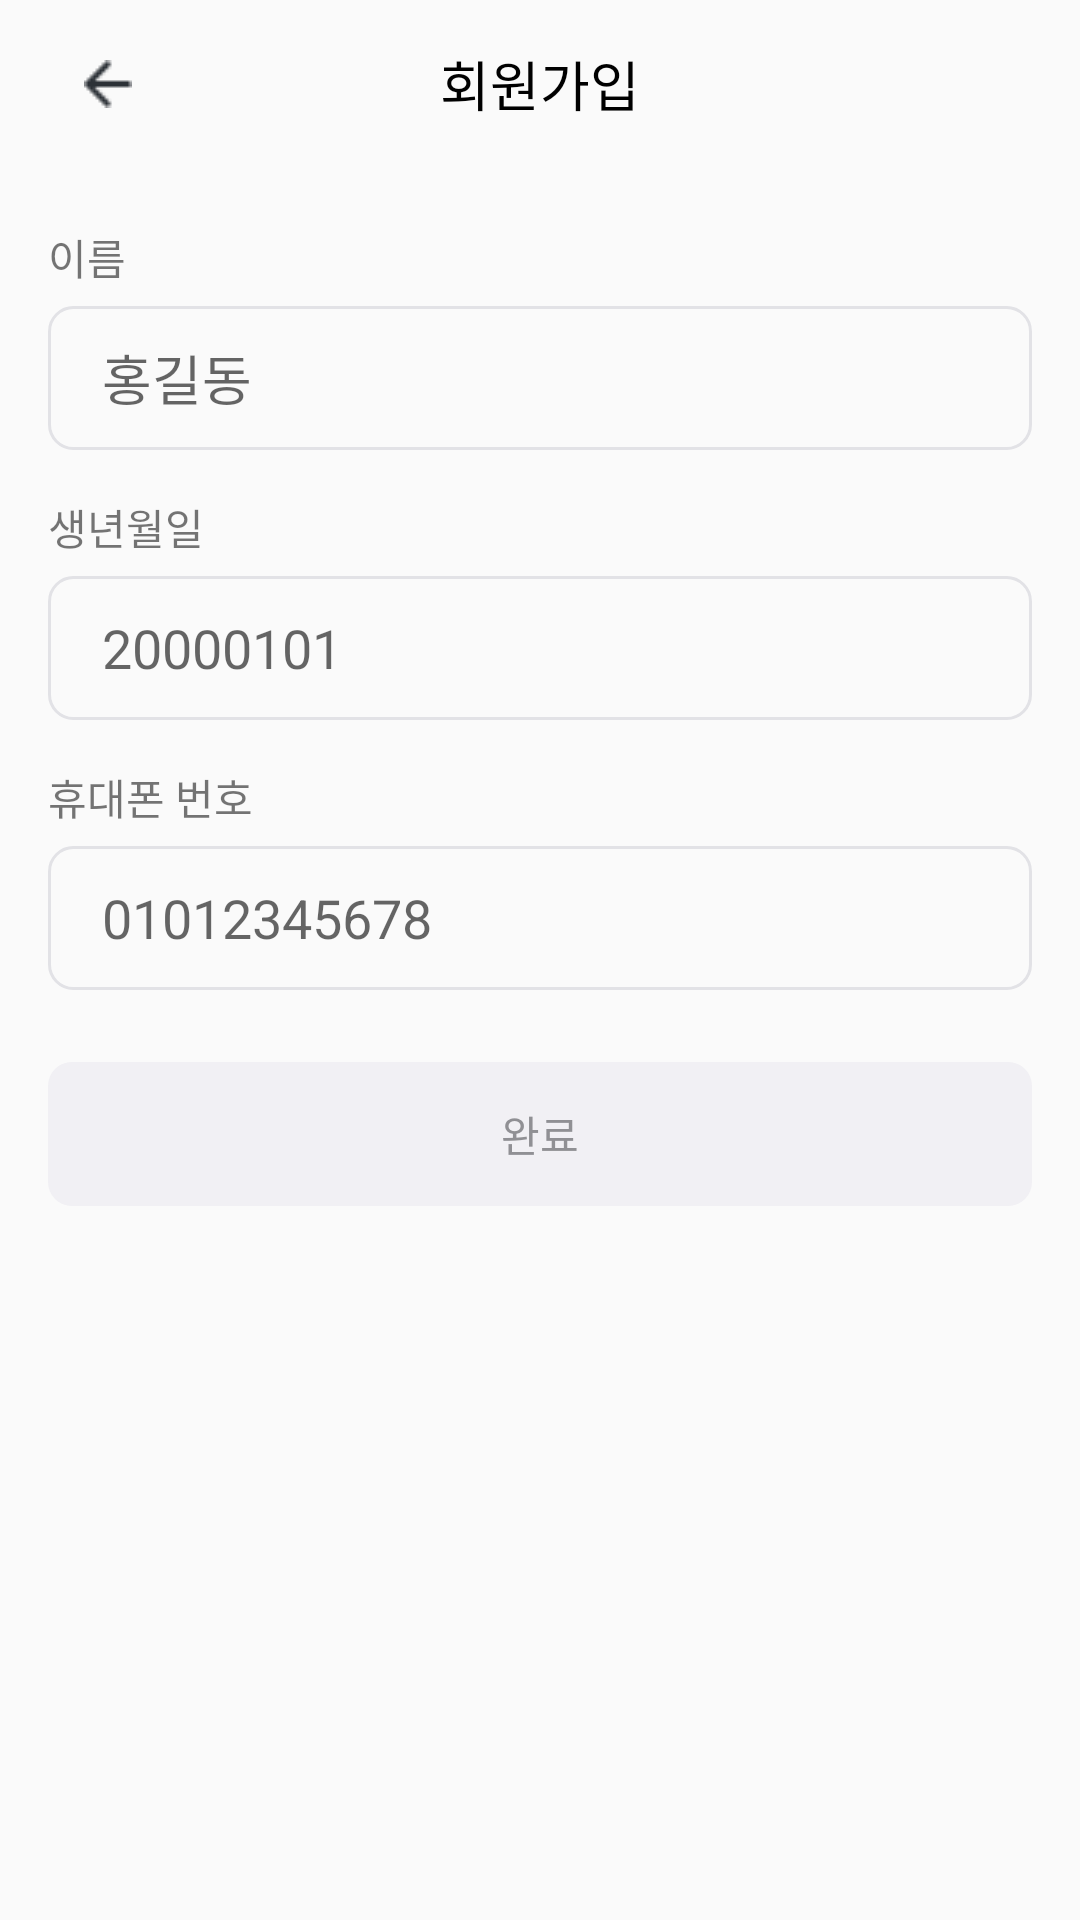

Where to tap for icons on this 1080x1920 app screen, as (x,y):
back arrow: (108,84)
